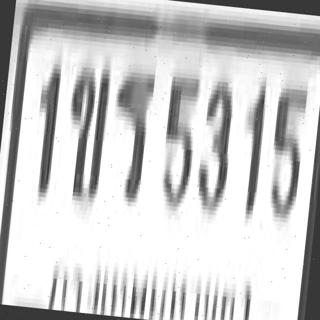A02: (60, 61, 110, 198)
A35: (106, 66, 154, 198)
N01: (29, 58, 60, 193), (237, 78, 266, 212)
N03: (194, 75, 235, 211)
N05: (264, 81, 308, 216), (157, 72, 199, 207)
